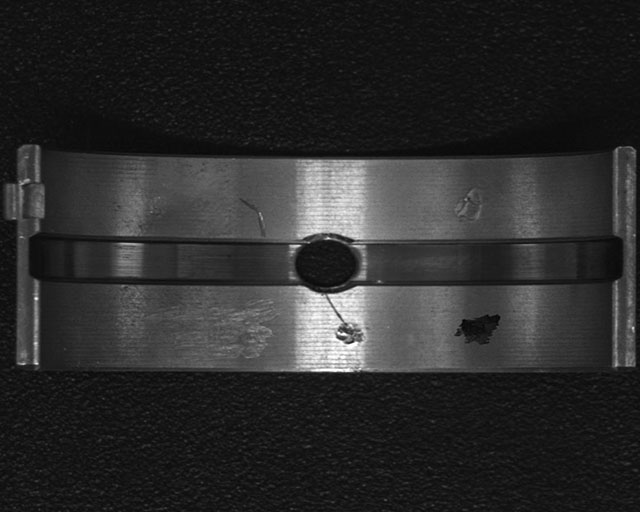blot: (454, 313, 502, 344)
bruise: (452, 183, 486, 224), (332, 321, 366, 344)
gap: (31, 232, 296, 287), (356, 233, 621, 288)
hole: (292, 231, 361, 297)
nick: (238, 198, 267, 237), (322, 292, 349, 327)
scratch: (143, 295, 273, 358)
